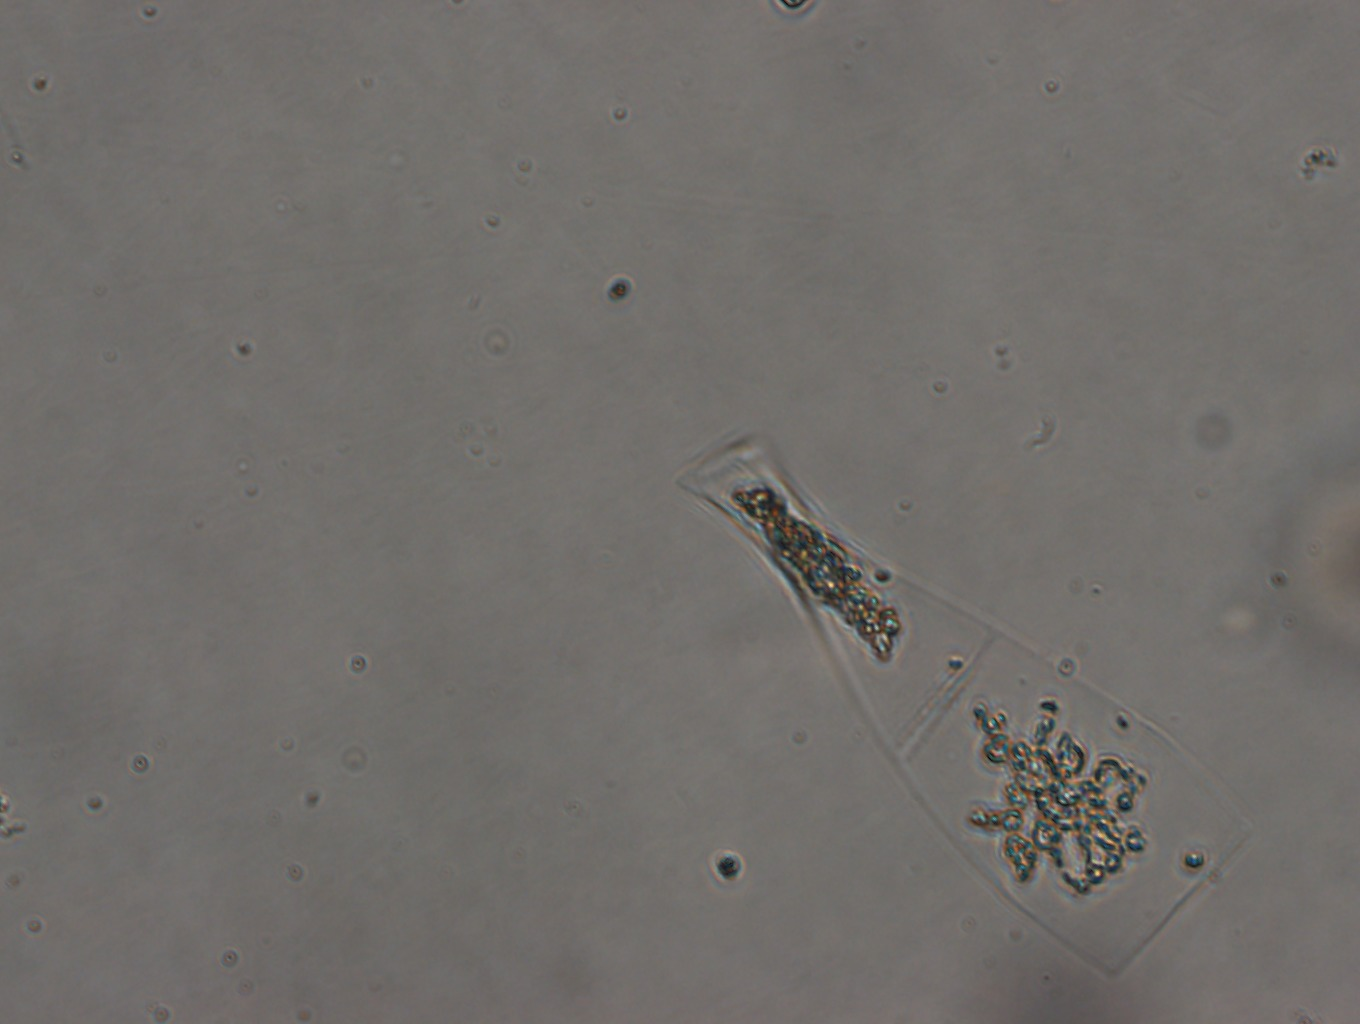helicotheca: (670, 422, 1265, 986)
